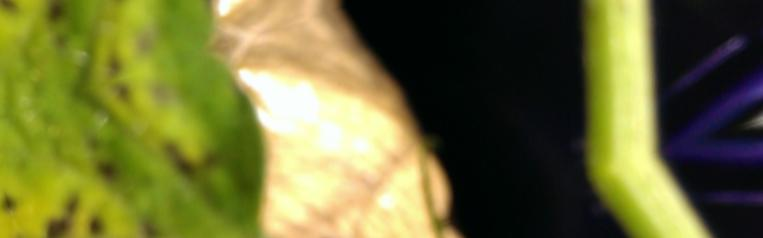Tomato Septoria leaf spot: (0, 30, 343, 238)
